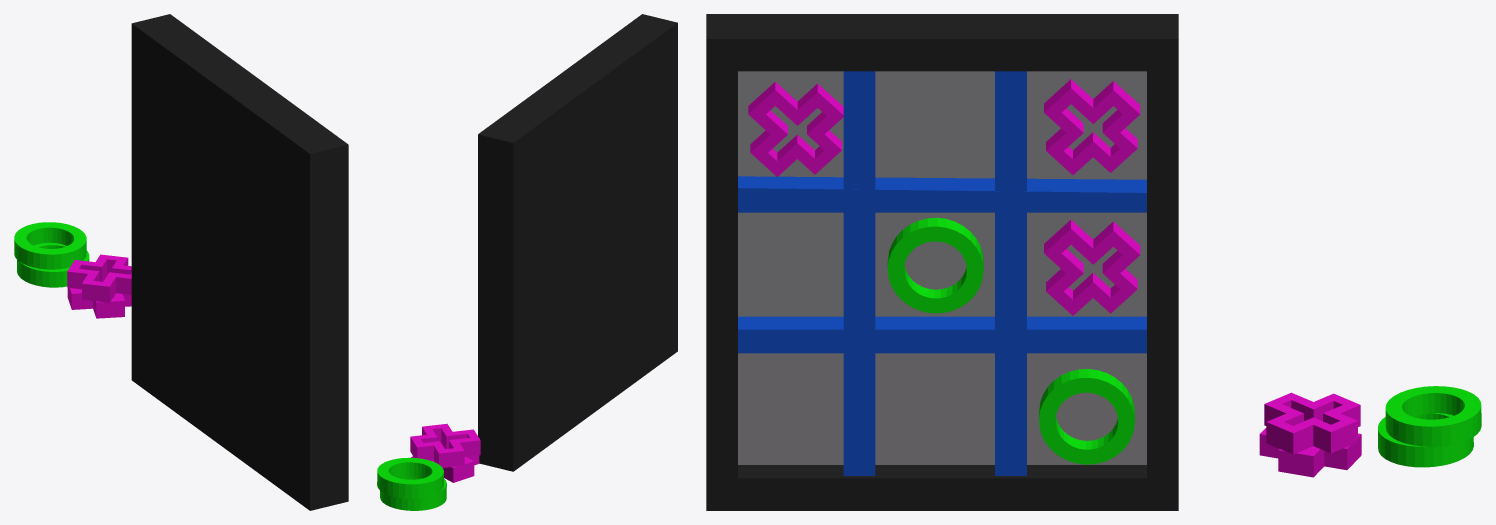
The model's file is JogoDaVelha.fbx.
3 renders of one model, left to right at view 1: azimuth 30°, elevation 25°; view 2: azimuth 150°, elevation 25°; view 3: azimuth 270°, elevation 25°, orthographic. The views are drawn at different scales.
Visible parts, largest first — view 1: Jogo da Velha, O.2, X.1, O.1, X.2; view 2: Jogo da Velha, O.2, X.1, O.1, X.2; view 3: Jogo da Velha, X.3, X.4, X.5, O.3, O.4, O.2, X.1, O.1, X.2.
Part boxes in pixels (x1=…): Jogo da Velha: x1=131, y1=14, x2=348, y2=510; O.2: x1=14, y1=222, x2=86, y2=269; X.1: x1=67, y1=254, x2=131, y2=302; O.1: x1=17, y1=242, x2=89, y2=287; X.2: x1=67, y1=276, x2=131, y2=318; Jogo da Velha: x1=478, y1=14, x2=677, y2=471; O.2: x1=377, y1=457, x2=443, y2=498; X.1: x1=410, y1=423, x2=480, y2=467; O.1: x1=380, y1=477, x2=446, y2=510; X.2: x1=411, y1=444, x2=479, y2=482; Jogo da Velha: x1=706, y1=14, x2=1178, y2=510; X.3: x1=1044, y1=220, x2=1140, y2=315; X.4: x1=1044, y1=79, x2=1140, y2=174; X.5: x1=748, y1=81, x2=843, y2=176; O.3: x1=1039, y1=369, x2=1134, y2=464; O.4: x1=887, y1=217, x2=983, y2=313; O.2: x1=1385, y1=386, x2=1481, y2=447; X.1: x1=1264, y1=392, x2=1360, y2=454; O.1: x1=1378, y1=413, x2=1473, y2=467; X.2: x1=1259, y1=428, x2=1361, y2=477.
Size of the model in its own units: 63.14 by 288 by 429.
